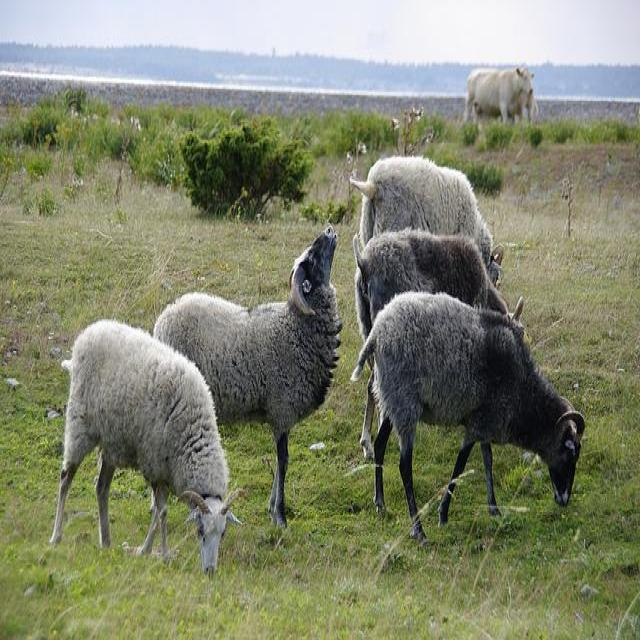Sheep: (349, 288, 588, 542), (155, 226, 339, 515), (51, 316, 235, 575), (350, 226, 526, 343), (351, 157, 504, 283), (463, 65, 535, 122)
